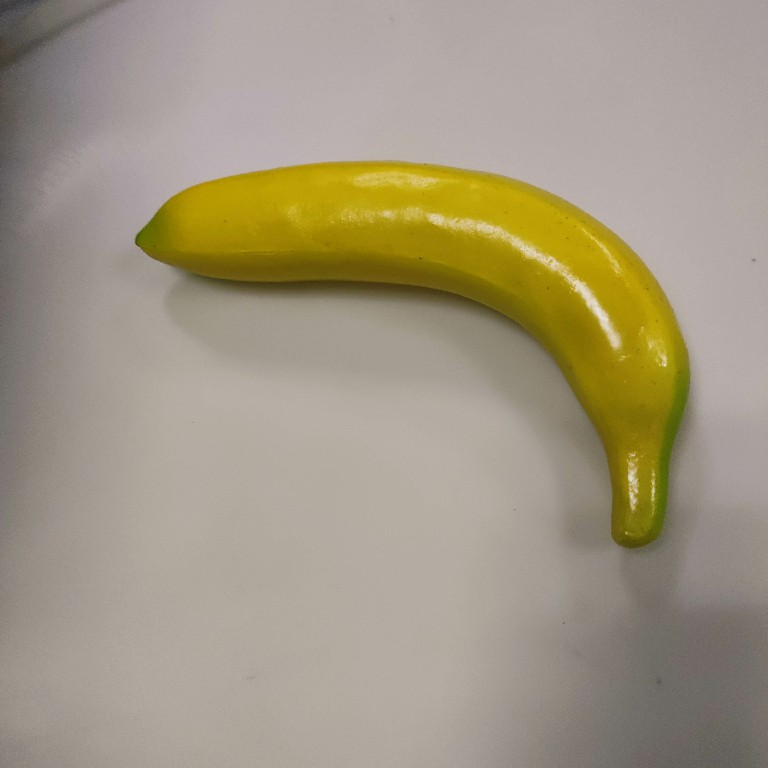fruit_banana: (125, 155, 695, 555)
